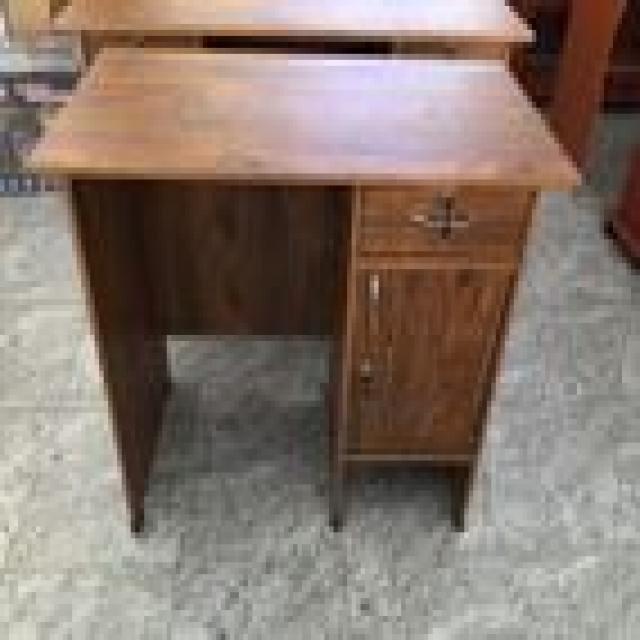others: (18, 6, 599, 550)
